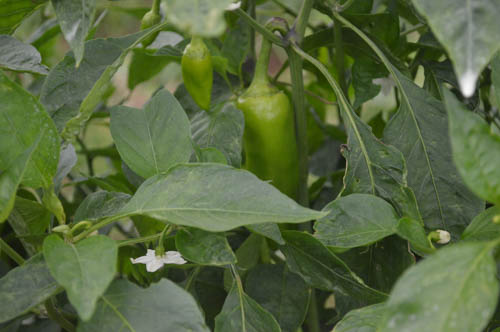ChiliPepper: (236, 89, 299, 214), (181, 45, 211, 113)
